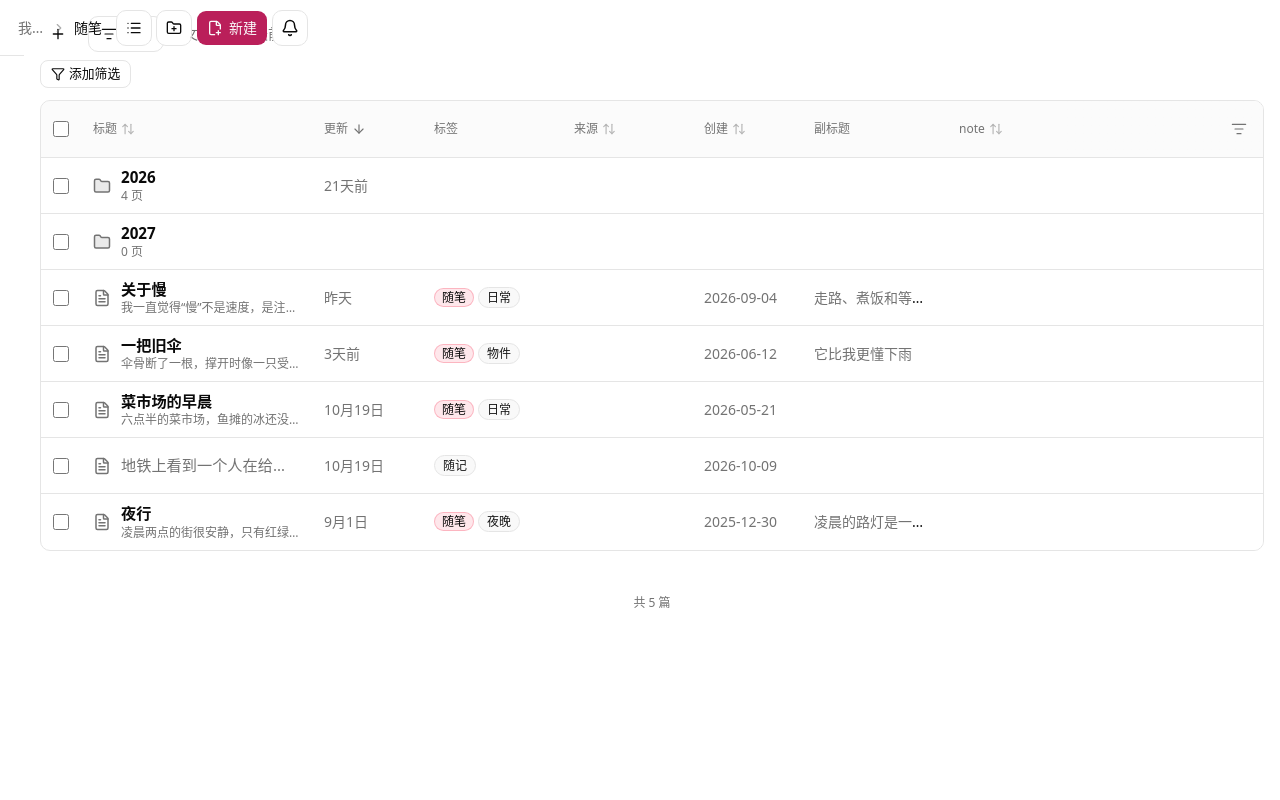
Scenario: Set type… on a folder › says that a subfolder without a binding takes its type from the folder above
The image size is (1280, 800).
Right-click the link "2026 4 页".
right_click(124, 185)  # box [93,167,156,204]
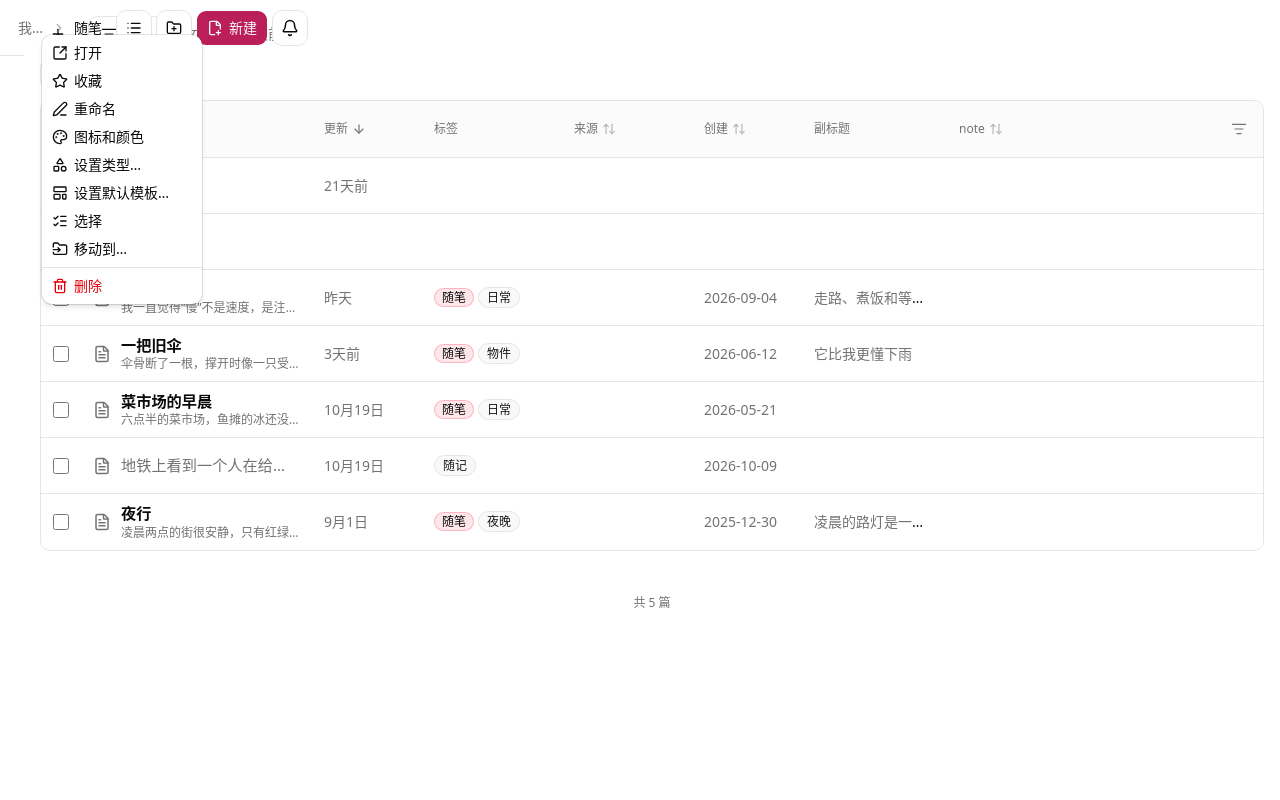
Press the mouse on the menu item "设置类型…" at (97, 164), box [52,155,141,174]
Click the menu item "设置类型…".
click(97, 164)  # box [52,155,141,174]
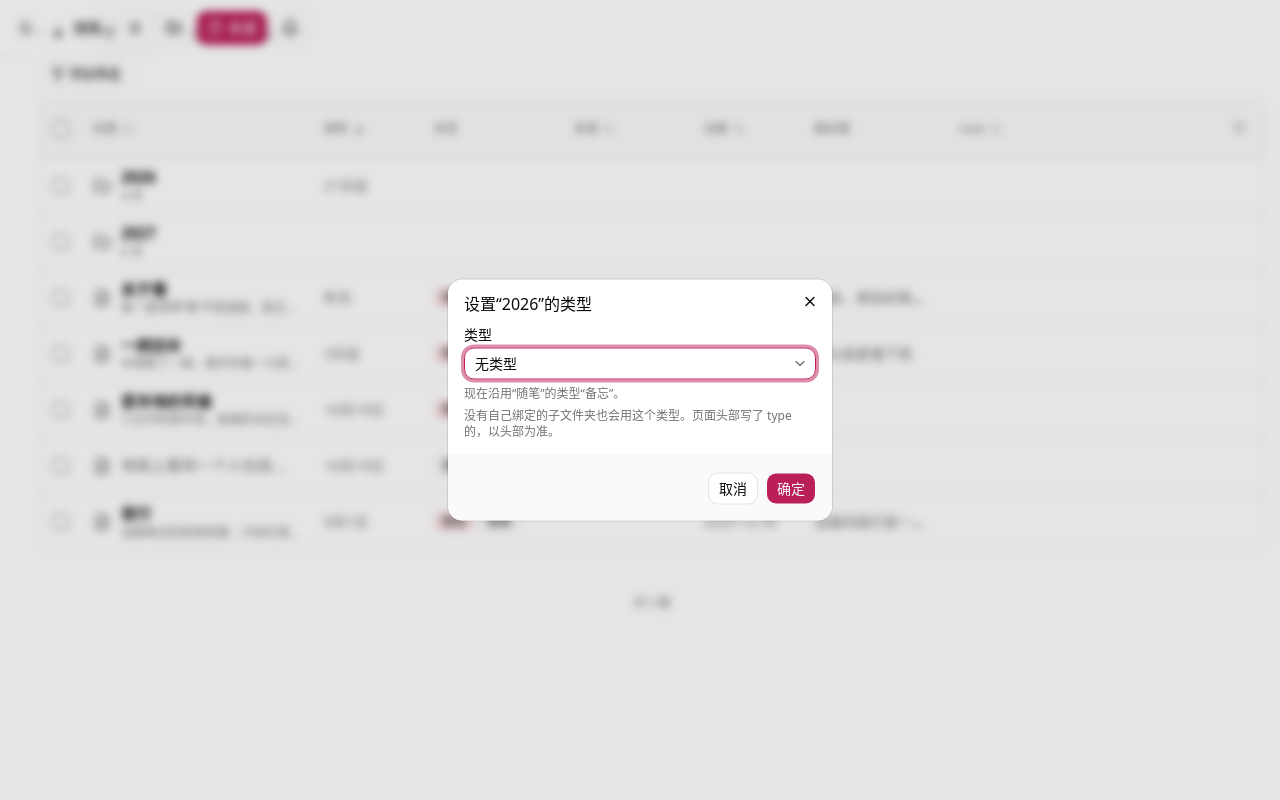
Now the dropdown labelled "类型" shows "无类型", box [464,348,816,380]
